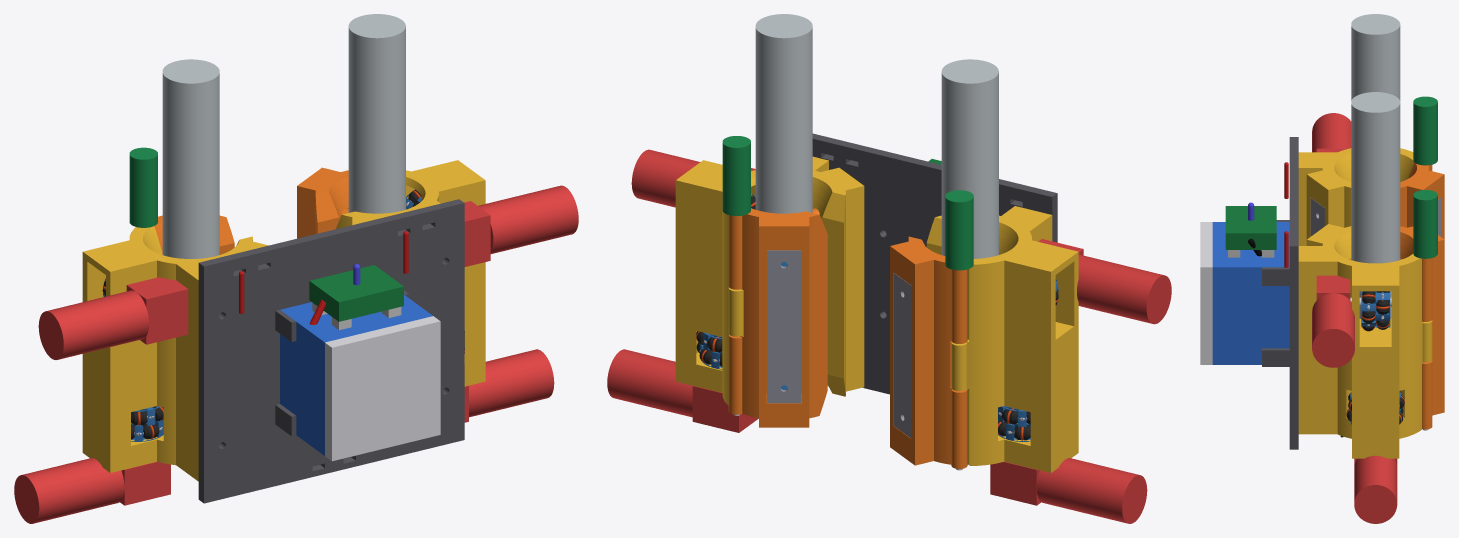
The model's file is cart-base-v2.glb.
3 views of the same model, side by side, from view 1: azimuth 30°, elevation 25°; view 2: azimuth 150°, elevation 25°; view 3: azimuth 270°, elevation 25° (orthographic). The views are drawn at different scales.
Visible parts, largest first — view 1: base_plate, hand_on_pipe_B_sleeve, arm_base_footprint, track_pipe_C, track_pipe_B, battery, hand_on_pipe_C_sleeve, hand_on_pipe_B_drive_motor, hand_on_pipe_B_roll_motor, hand_on_pipe_C_drive_motor, hand_on_pipe_C_roll_motor, waveshare_board (+7 smaller); view 2: hand_on_pipe_B_sleeve, hand_on_pipe_C_sleeve, hand_on_pipe_C_jaw, base_plate, hand_on_pipe_B_jaw, track_pipe_C, track_pipe_B, hand_on_pipe_C_p60_cap, hand_on_pipe_B_roll_motor, hand_on_pipe_B_drive_motor, hand_on_pipe_C_roll_motor, hand_on_pipe_B_p60_cap (+5 smaller); view 3: hand_on_pipe_C_sleeve, track_pipe_C, battery, hand_on_pipe_B_sleeve, hand_on_pipe_C_jaw, track_pipe_B, base_plate, hand_on_pipe_C_drive_motor, hand_on_pipe_C_roll_motor, waveshare_board, arm_base_footprint, hand_on_pipe_B_jaw (+11 smaller).
Boxes of the visible parts, box(x1,y1,x2,y2) form: base_plate: box(198, 199, 464, 503); hand_on_pipe_B_sleeve: box(82, 226, 268, 481); arm_base_footprint: box(325, 316, 440, 461); track_pipe_C: box(348, 14, 405, 213); track_pipe_B: box(162, 59, 219, 258); battery: box(280, 295, 432, 455); hand_on_pipe_C_sleeve: box(336, 160, 485, 386); hand_on_pipe_B_drive_motor: box(38, 290, 148, 359); hand_on_pipe_B_roll_motor: box(14, 458, 124, 523); hand_on_pipe_C_drive_motor: box(478, 185, 578, 253); hand_on_pipe_C_roll_motor: box(469, 349, 554, 417); waveshare_board: box(309, 265, 403, 321); hand_on_pipe_B_sleeve: box(926, 206, 1078, 472); hand_on_pipe_C_sleeve: box(675, 156, 864, 405); hand_on_pipe_C_jaw: box(728, 208, 827, 427); base_plate: box(812, 133, 1057, 394); hand_on_pipe_B_jaw: box(890, 236, 967, 468); track_pipe_C: box(755, 14, 812, 213); track_pipe_B: box(941, 59, 998, 464); hand_on_pipe_C_p60_cap: box(767, 250, 801, 403); hand_on_pipe_B_roll_motor: box(1037, 458, 1147, 523); hand_on_pipe_B_drive_motor: box(1077, 254, 1171, 324); hand_on_pipe_C_roll_motor: box(607, 349, 692, 417); hand_on_pipe_B_p60_cap: box(894, 273, 911, 438); hand_on_pipe_C_sleeve: box(1298, 224, 1432, 458); track_pipe_C: box(1351, 92, 1400, 318); battery: box(1212, 222, 1289, 364); hand_on_pipe_B_sleeve: box(1298, 148, 1414, 245); hand_on_pipe_C_jaw: box(1400, 226, 1444, 429); track_pipe_B: box(1351, 14, 1400, 100); base_plate: box(1289, 137, 1298, 449); hand_on_pipe_C_drive_motor: box(1312, 293, 1354, 367); hand_on_pipe_C_roll_motor: box(1354, 455, 1397, 523); waveshare_board: box(1225, 206, 1276, 249); arm_base_footprint: box(1200, 222, 1212, 364); hand_on_pipe_B_jaw: box(1400, 162, 1444, 239).
Size of the model in its own units: 332 by 253 by 159.
